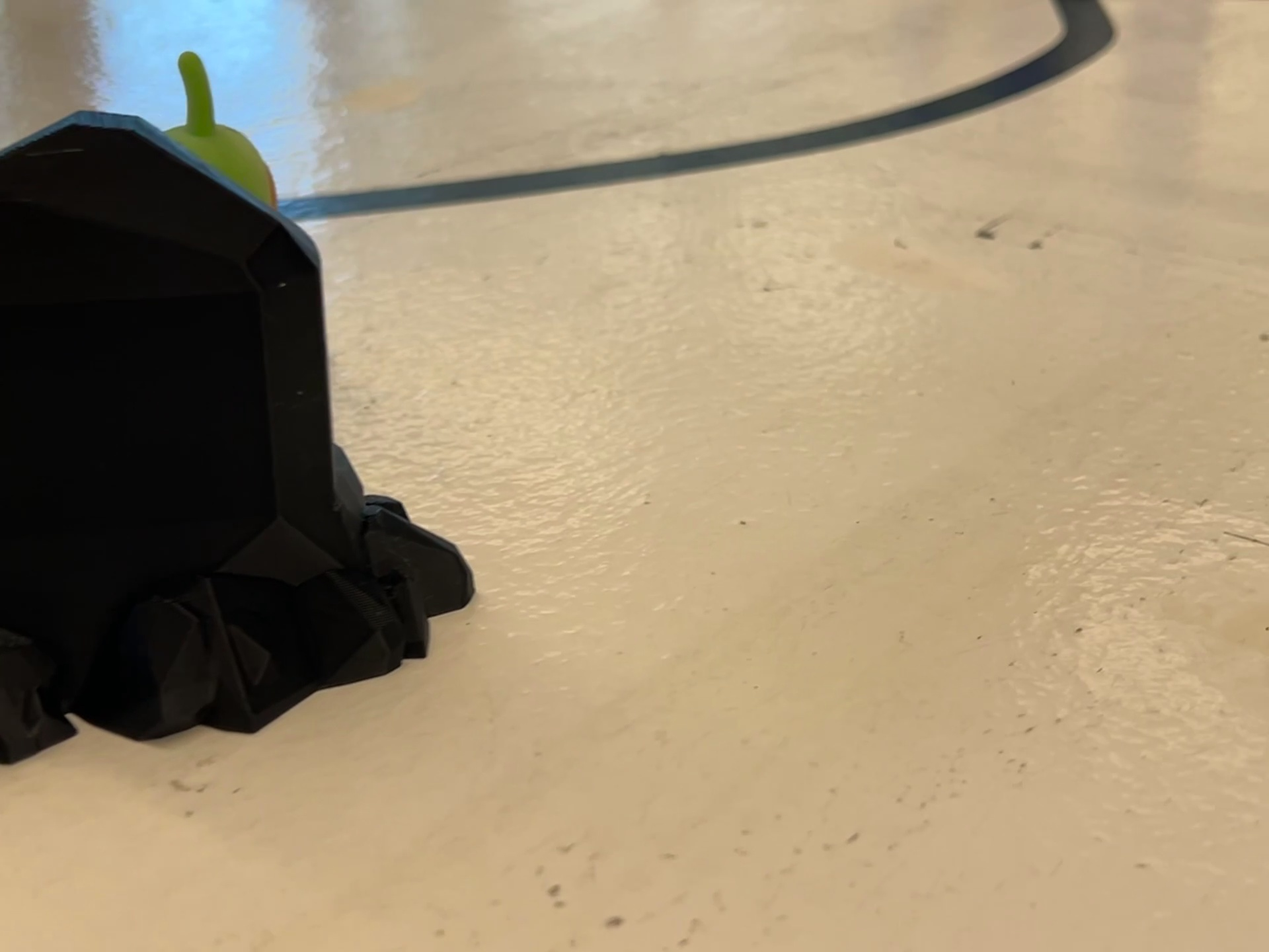teletubby: (166, 51, 277, 208)
